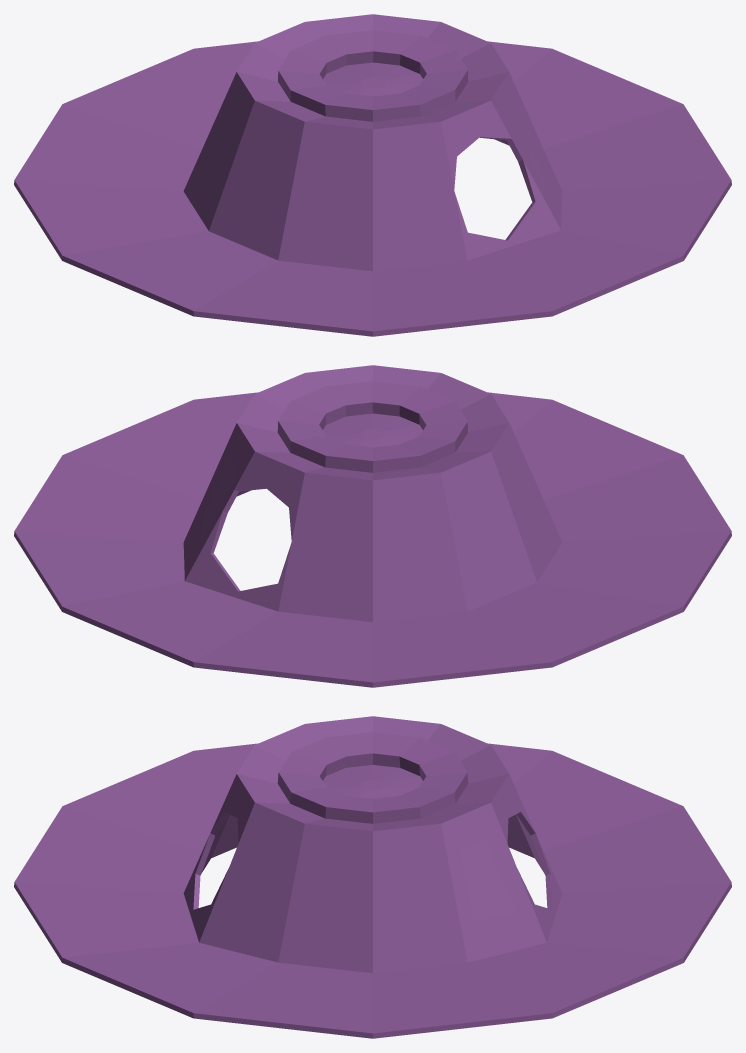
File: Chuppalla_Hat.fbx
The picture shows the model from 3 angles, top to bottom: view 1: azimuth 30°, elevation 25°; view 2: azimuth 150°, elevation 25°; view 3: azimuth 270°, elevation 25°; orthographic projection.
Parts seen in each view (by area): view 1: Chupalla Hat; view 2: Chupalla Hat; view 3: Chupalla Hat.
Boxes of the visible parts, bbox=[...] form: Chupalla Hat: bbox=[14, 14, 731, 336]; Chupalla Hat: bbox=[14, 365, 731, 687]; Chupalla Hat: bbox=[14, 716, 731, 1038].
Size of the model in its own units: 442 by 85.49 by 442.
